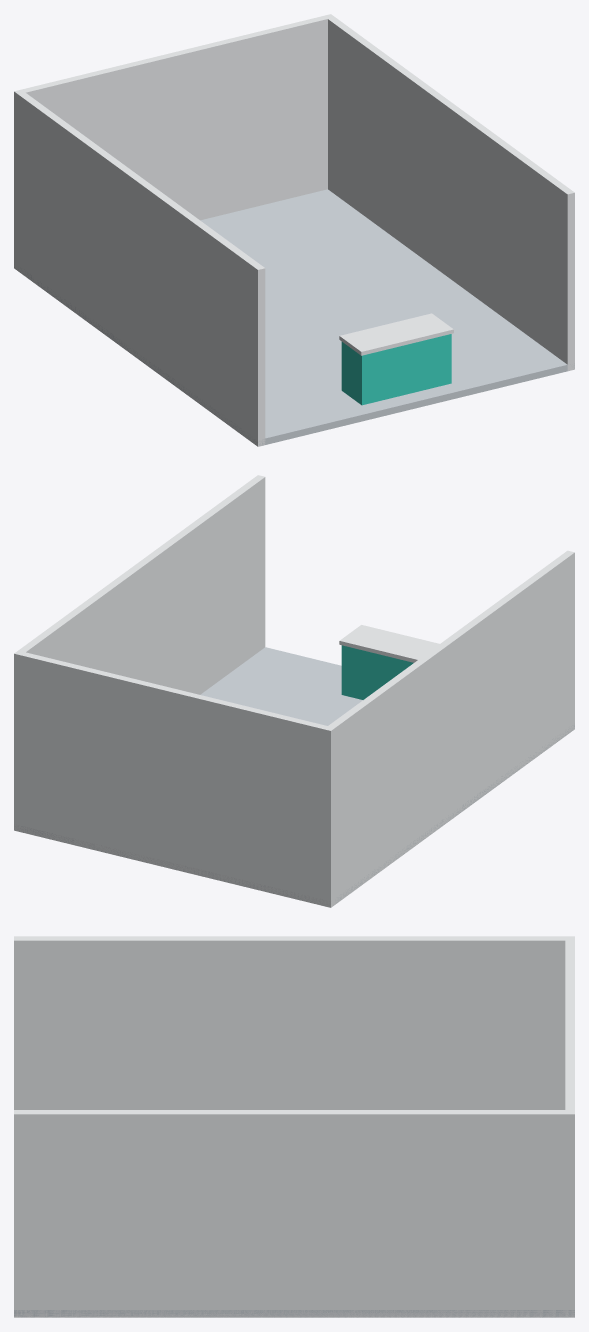
The picture shows the model from 3 angles, top to bottom: view 1: azimuth 30°, elevation 25°; view 2: azimuth 150°, elevation 25°; view 3: azimuth 270°, elevation 25°; orthographic projection. The views are drawn at different scales.
Parts seen in each view (by area): view 1: Exhibition Booth Concept; view 2: Exhibition Booth Concept; view 3: Exhibition Booth Concept.
Boxes of the visible parts, x1,y1,x2,y2 form: Exhibition Booth Concept: (14,14,574,446); Exhibition Booth Concept: (14,475,574,907); Exhibition Booth Concept: (14,936,574,1317).
Bounding box in the file's own units: 6 × 3.2 × 8.
